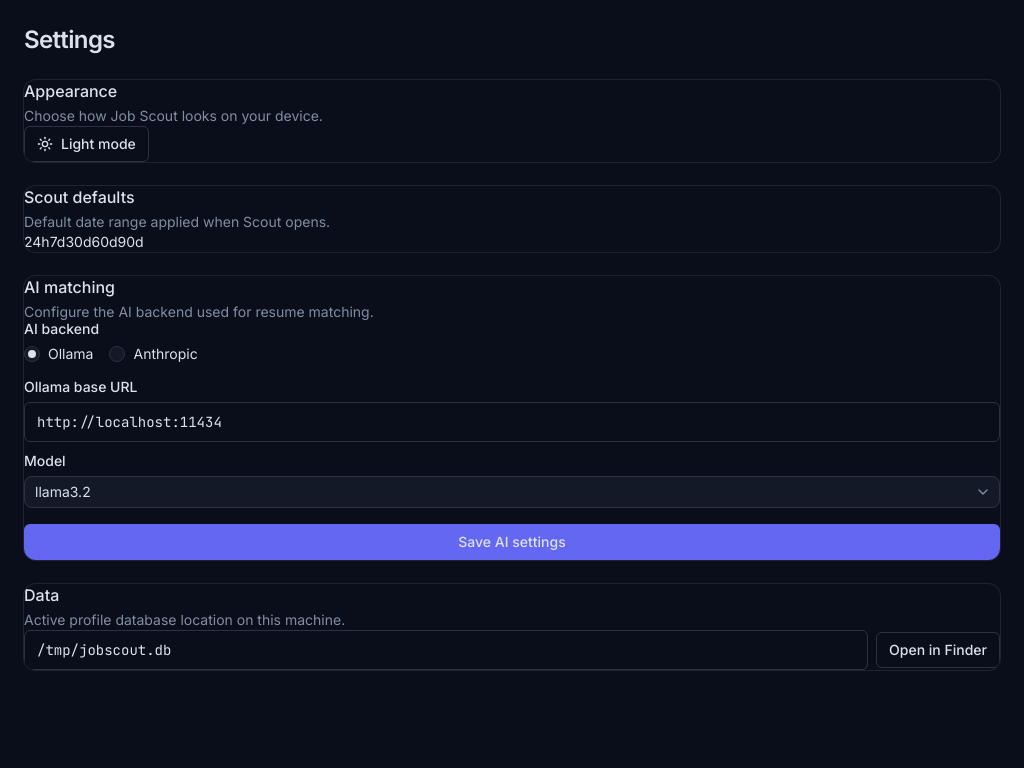
Test: SettingsScreen › shows Configured when anthropic key status is configured
Expected: the field labelled "Ollama base URL" is shown, x1=24 y1=402 x2=1000 y2=442
Click the radio button named "Anthropic" next to "Anthropic".
click(118, 354)  # box x1=110 y1=346 x2=126 y2=362
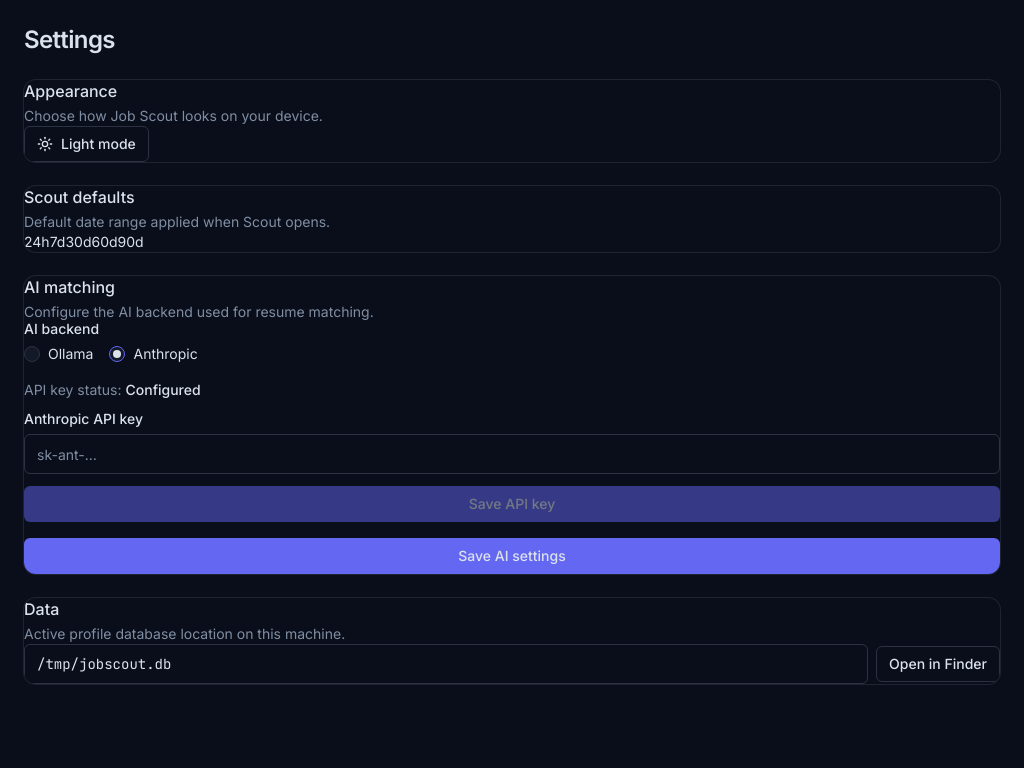
Result: the text "Configured" is shown at x1=126 y1=381 x2=201 y2=398
